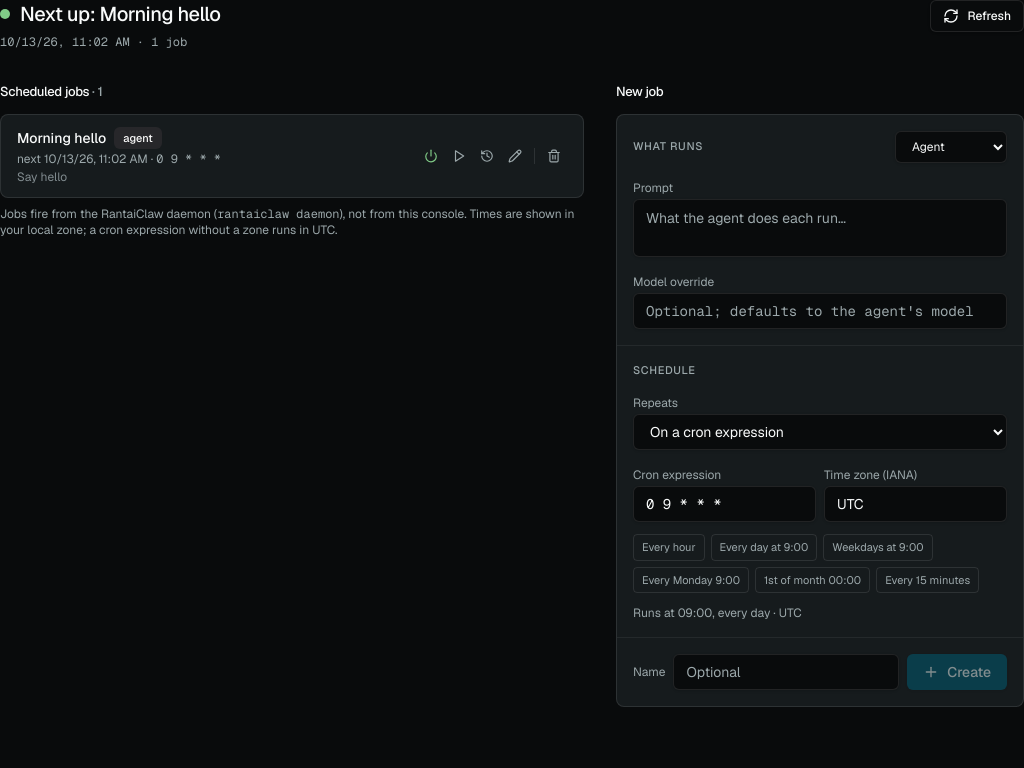
Test: CronPanel run history › uses one status vocabulary and names retried attempts
The width and height of the screenshot is (1024, 768).
Expected: the text "Morning hello" is shown, left=17, top=128, right=106, bottom=148
Click the button named "Run history" at (487, 156), box left=474, top=143, right=500, bottom=169
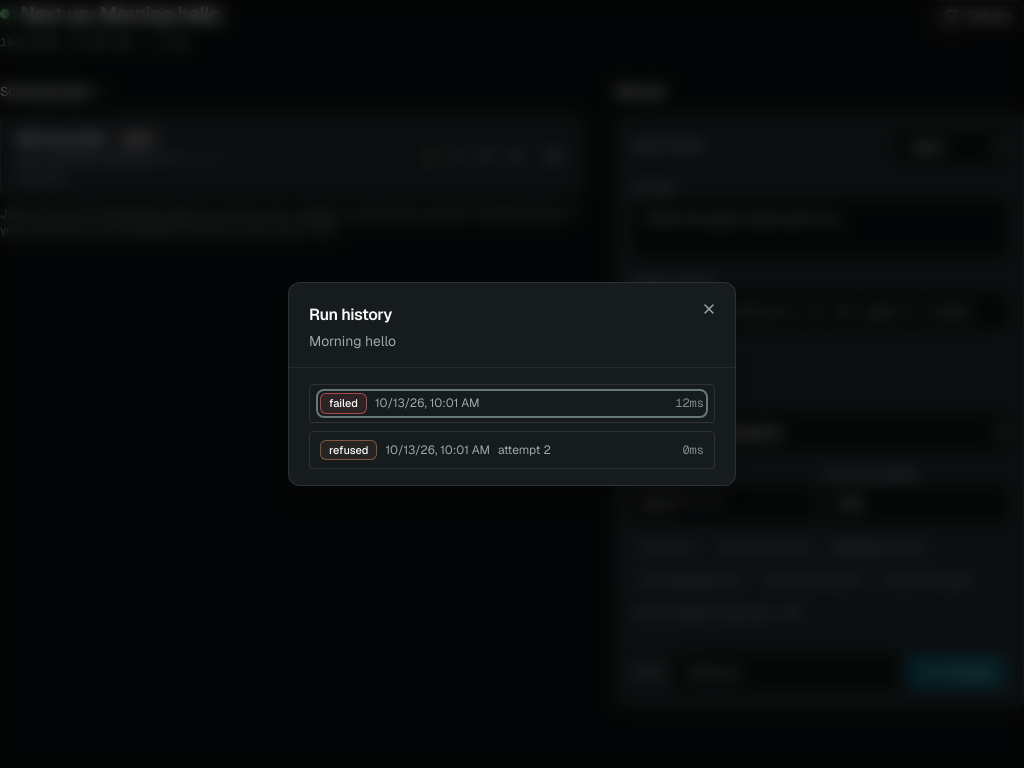
Expected: the text "failed" is shown, left=320, top=393, right=367, bottom=414
Expected: the text "refused" is shown, left=320, top=440, right=378, bottom=460
Expected: the text "attempt 2" is shown, left=498, top=442, right=551, bottom=458
